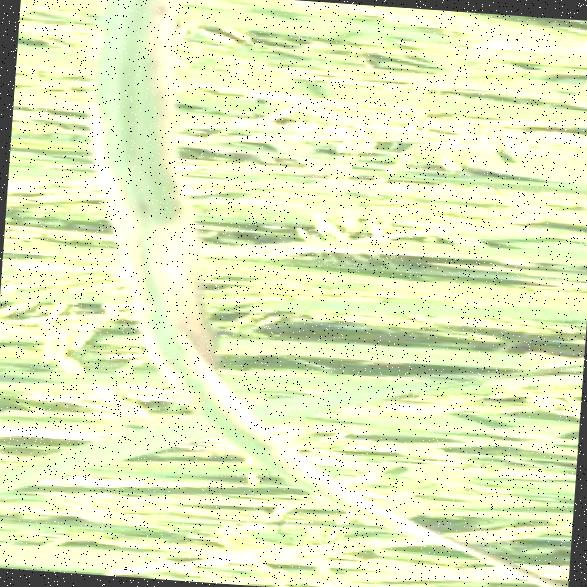Bacteria_Leaf_Blight: (72, 0, 204, 325)
